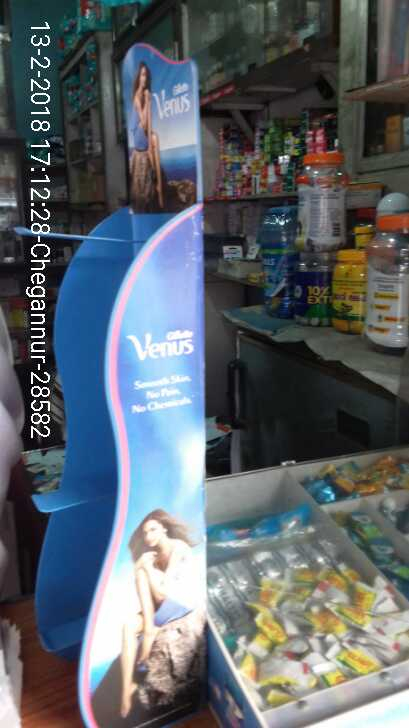reject: (213, 308, 334, 401)
